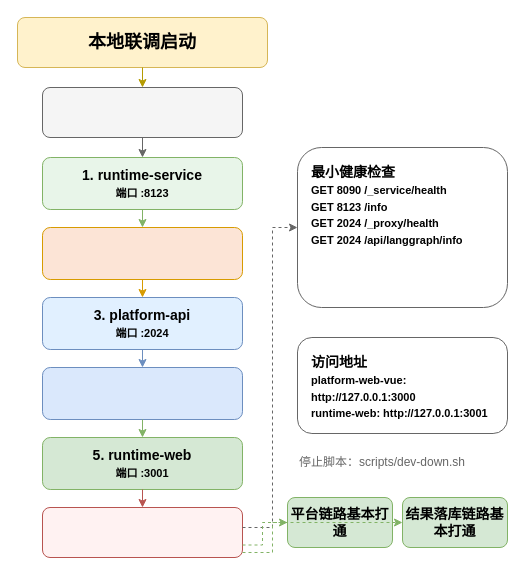
This 525x578 diagram has some shape labels left out. The centre of each missing label's shape, as x and y in pixels:
2. interaction-data-service 端口 :8090: point 142,253
4. platform-web-vue 端口 :3000: point 142,393
启动脚本 scripts/dev-up.sh: point 142,112
执行健康检查 scripts/check-health.sh: point 142,532
